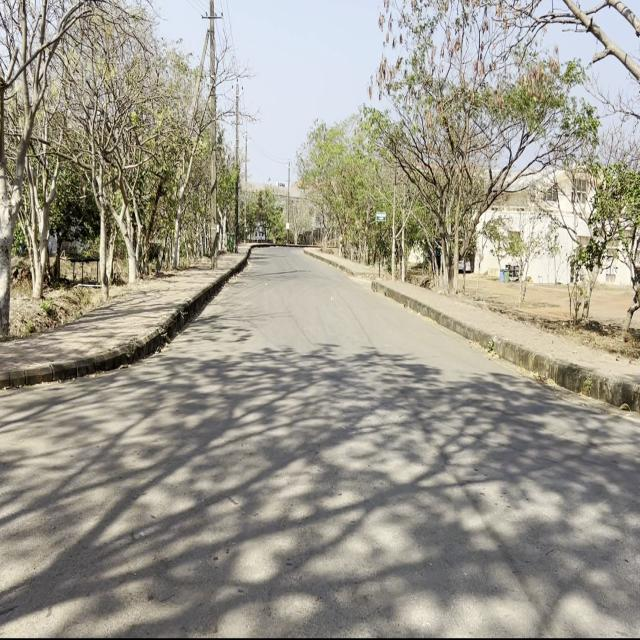Road: (4, 246, 637, 633)
